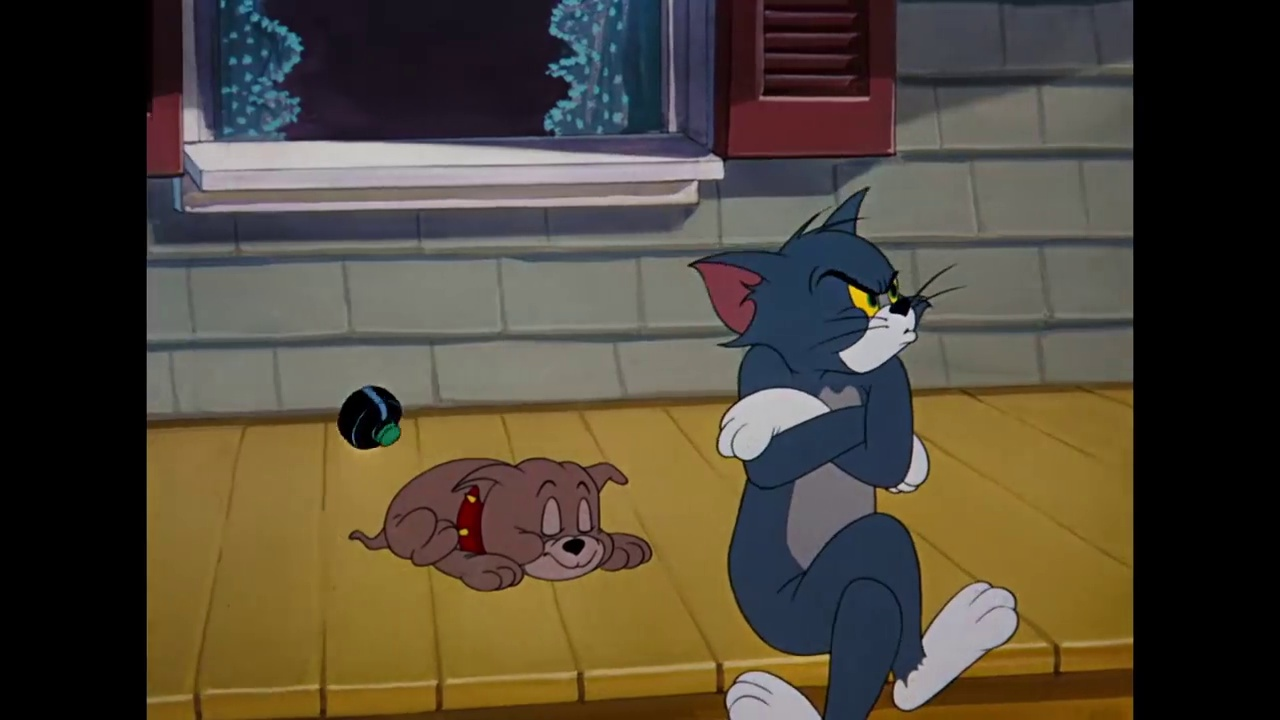tom: (685, 182, 952, 390)
